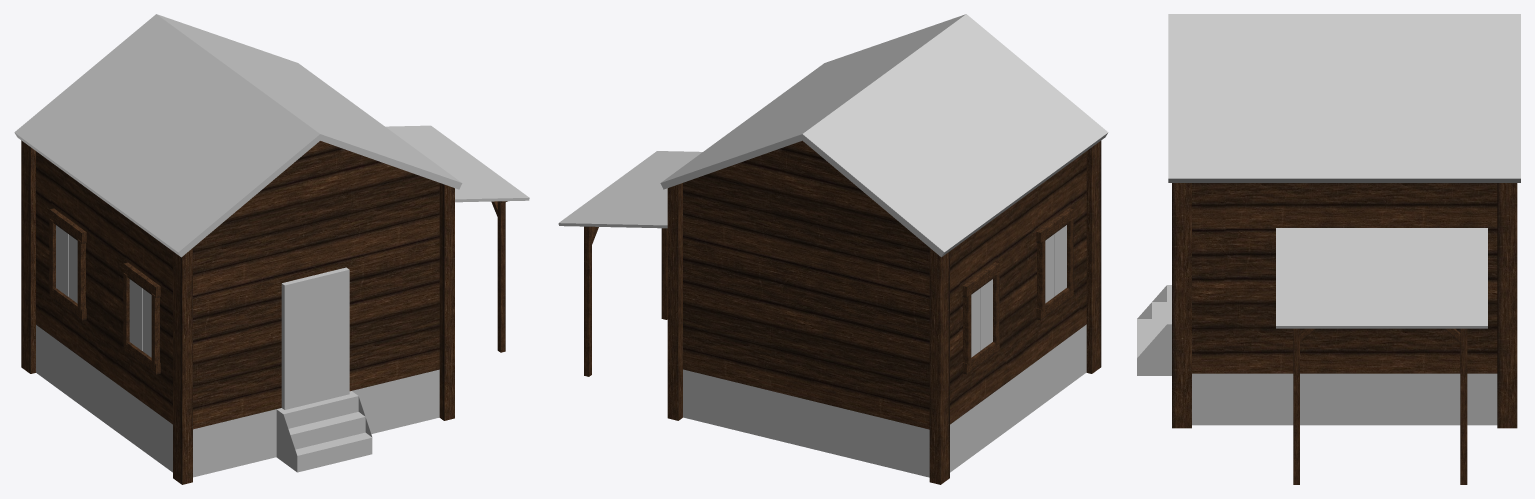
The model's file is cabin3.obj.
3 views of the same model, side by side, from view 1: azimuth 30°, elevation 25°; view 2: azimuth 150°, elevation 25°; view 3: azimuth 270°, elevation 25° (orthographic). The views are drawn at different scales.
Visible parts, largest first — view 1: cabin_main.001, roof_tiles.001, stairs_foundation.001, doors_shutters.001; view 2: cabin_main.001, roof_tiles.001, stairs_foundation.001, doors_shutters.001; view 3: roof_tiles.001, cabin_main.001, stairs_foundation.001.
Part boxes in pixels (x1,y1,x2,y2): cabin_main.001: (21, 140, 507, 484); roof_tiles.001: (14, 14, 529, 257); stairs_foundation.001: (36, 325, 439, 477); doors_shutters.001: (56, 225, 349, 409); cabin_main.001: (584, 140, 1101, 484); roof_tiles.001: (558, 14, 1108, 257); stairs_foundation.001: (683, 324, 1086, 477); doors_shutters.001: (971, 225, 1066, 357); roof_tiles.001: (1168, 14, 1520, 328); cabin_main.001: (1172, 183, 1517, 484); stairs_foundation.001: (1137, 285, 1497, 425).
Size of the model in its own units: 53.43 by 40.63 by 41.17.
2 materials, 1 textured.
